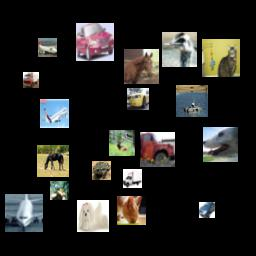airplane: (5, 194, 43, 232), (40, 99, 69, 128), (38, 38, 57, 57)
automobile: (76, 23, 114, 61), (127, 88, 149, 110), (199, 202, 215, 218)
bird: (162, 32, 197, 67), (50, 181, 69, 200)
cat: (202, 39, 240, 77), (117, 196, 146, 225)
deer: (109, 130, 135, 156)
dog: (203, 127, 238, 162), (77, 200, 109, 232)
frog: (92, 161, 111, 180)
ship: (176, 85, 208, 117)
truck: (140, 132, 175, 167), (123, 169, 142, 188), (23, 72, 39, 88)
